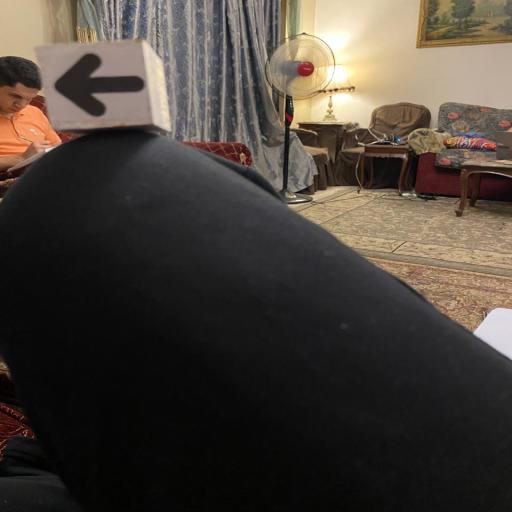Back: (36, 40, 174, 136)
